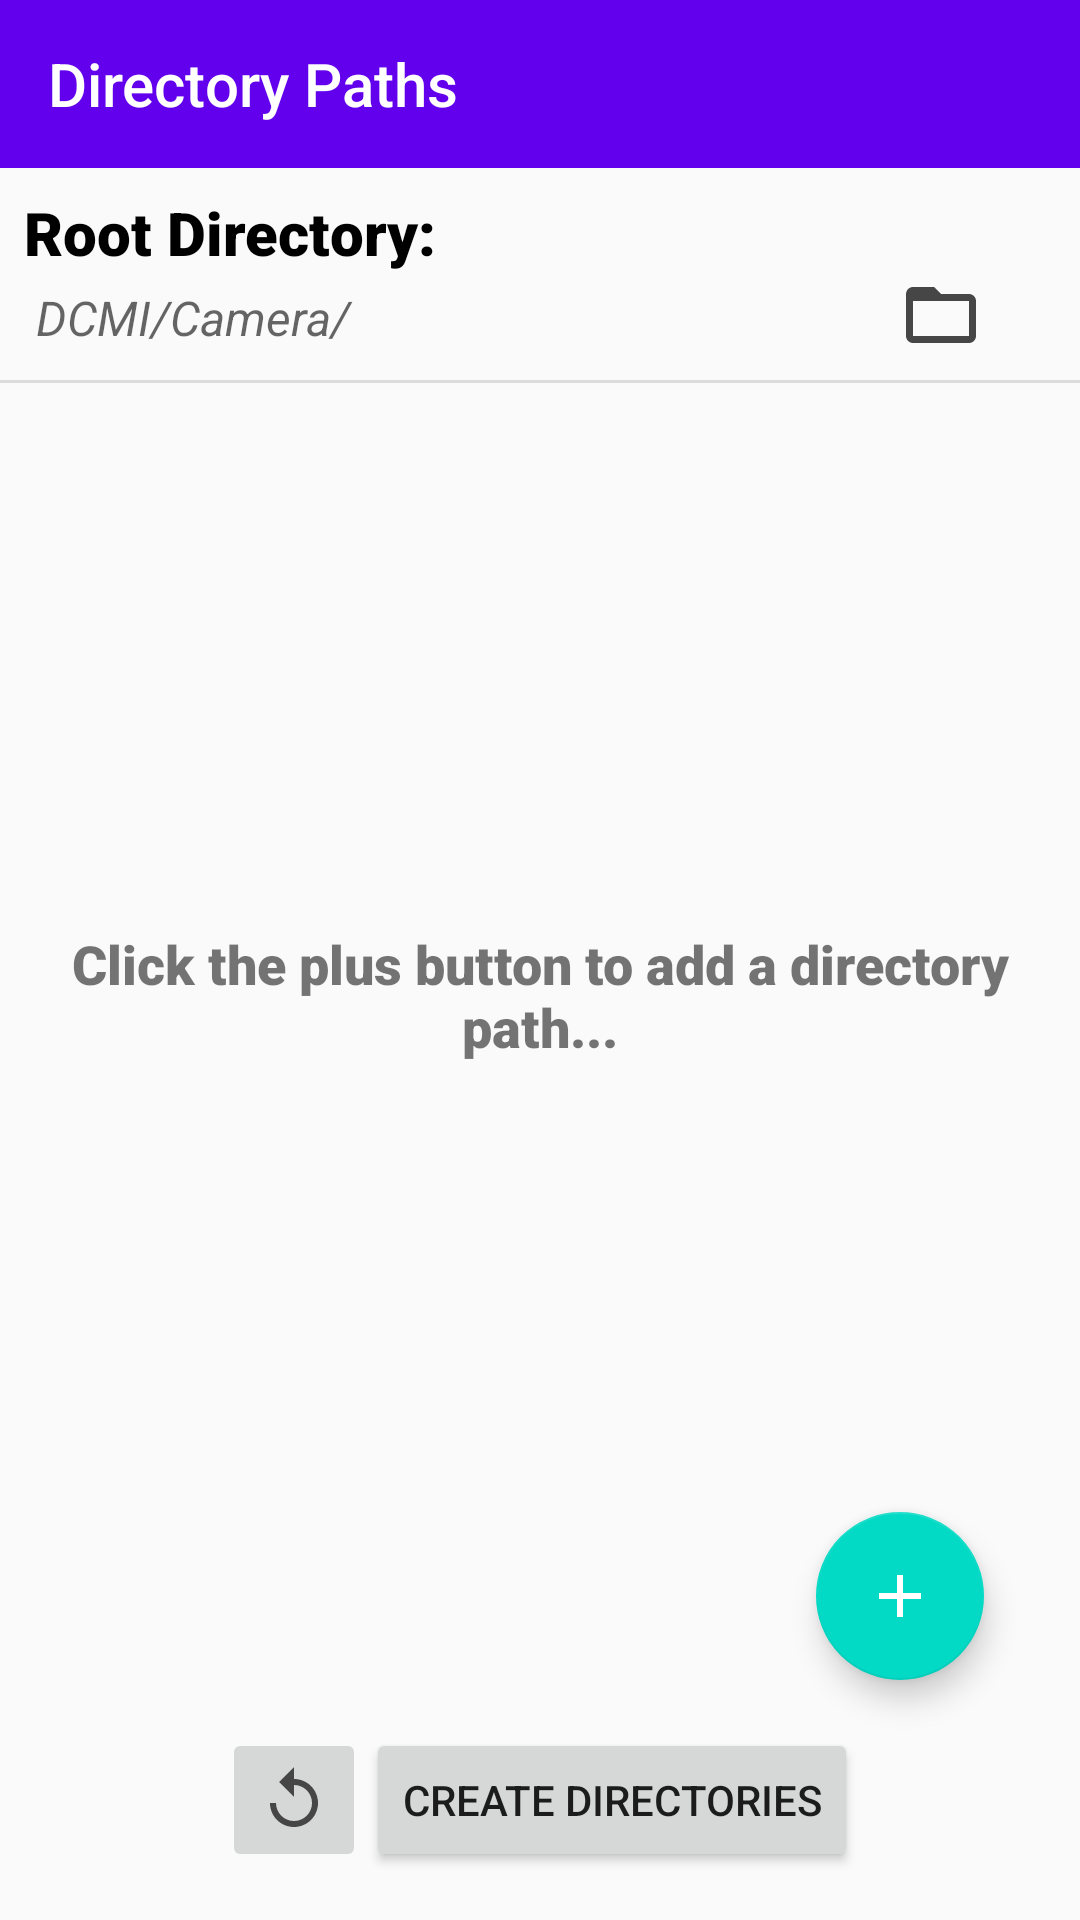

Screen size 1080w x 1920h. Icon name, then its center in pixels as (x,y):
add: (900,1596)
folder open: (941,315)
replay: (294,1800)
